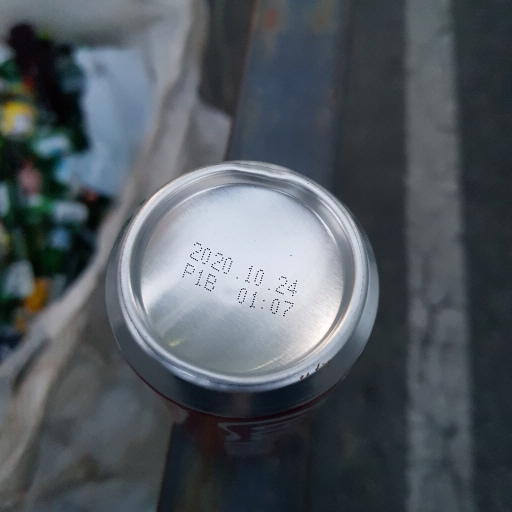Metal_0: (103, 159, 381, 457)
